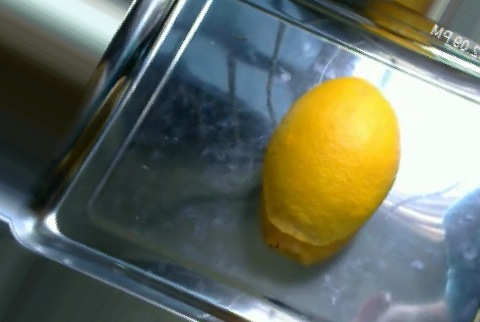Orange: (263, 76, 401, 247)
